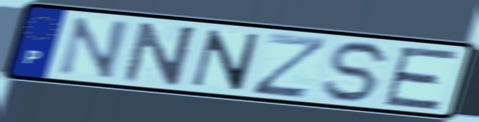E: (380, 45, 463, 111)
N: (120, 20, 201, 87), (53, 15, 133, 81), (186, 28, 264, 93)
S: (319, 40, 396, 105)
Z: (249, 31, 333, 100)
